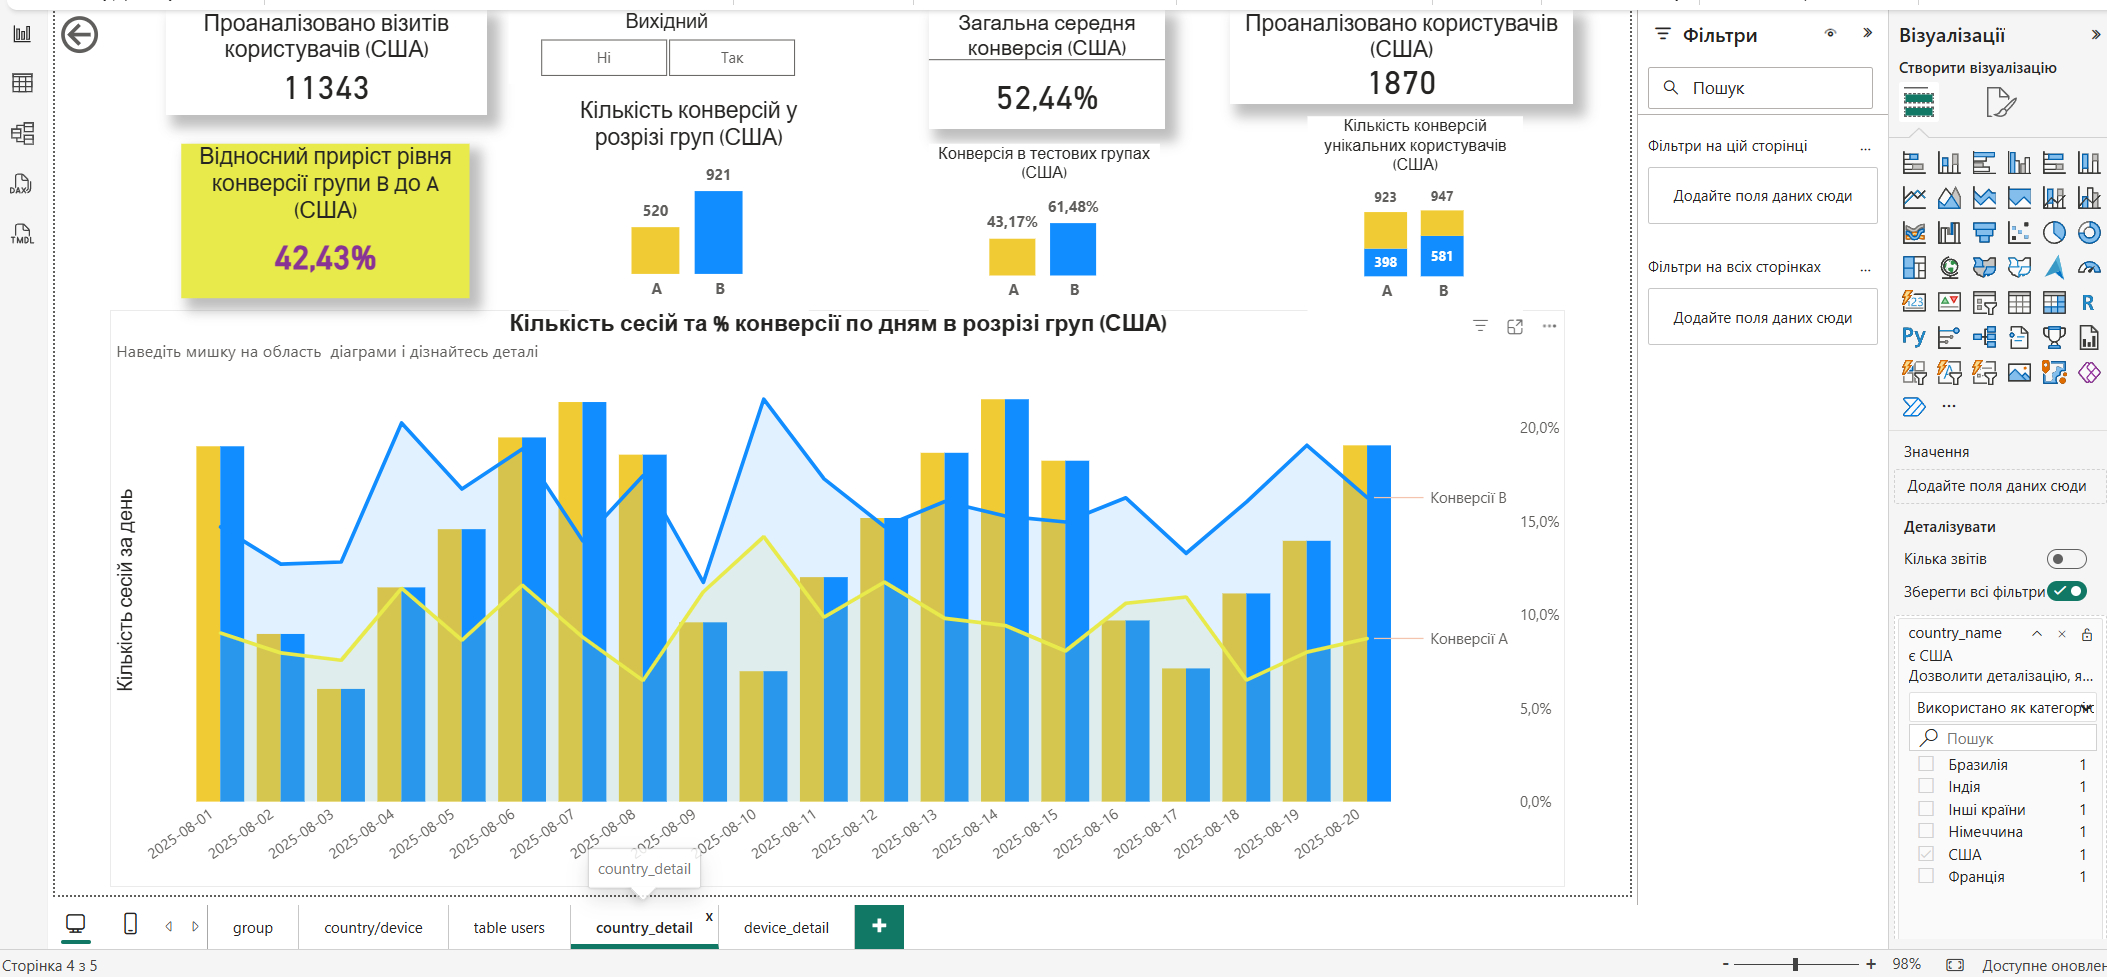

The page's visual inventory and layout, read from the dashboard file:
{"tool":"powerbi","page":{"name":"country_detail","canvas":[1280,720],"ordinal":3},"visuals":[{"type":"lineClusteredColumnComboChart","fields":{"Category":["Date.Date"],"Y":["daily.total_visits"],"Y2":["daily.cr_A","daily.cr_B"],"Series":["v_daily_agg.group_label"]},"box":[44.5,244.2,1183.8,469.3],"z":0},{"type":"card","fields":{"Values":["daily.total_visits"]},"box":[90.4,0,260.5,85.9],"z":1000},{"type":"card","fields":{"Values":["daily.cr_lift"]},"box":[102.8,109,234.8,125.8],"z":2000},{"type":"slicer","title":"Вихідний","fields":{"Values":["Date.IsWorkday"]},"box":[368.6,0,256.9,60.2],"z":3000},{"type":"columnChart","fields":{"Y":["daily.converted_visits"],"Category":["group.group_label"]},"box":[418.2,70.9,194.9,173.6],"z":4000},{"type":"card","fields":{"Values":["daily.cr"]},"box":[710.5,0,192.2,96.6],"z":5000},{"type":"clusteredColumnChart","fields":{"Y":["daily.cr"],"Category":["group.group_label"]},"box":[710.5,109,187.8,137.3],"z":6000},{"type":"card","fields":{"Values":["daily.total_users"]},"box":[955,0,279.1,77.1],"z":7000},{"type":"columnChart","fields":{"Y":["daily.converted_users","daily.not_converted_users"],"Category":["group.group_label"]},"box":[1018.8,85.9,175.4,160.4],"z":8000},{"type":"actionButton","box":[0,0,100,40],"z":9000}]}

Visuals, with their boxes on the page's 1280x720 design canvas (x1, y1, x2, y2). These are canvas units, not pixel positions in the 2107x977 screenshot, which may show the page scaled, cropped or inside an application window:
lineClusteredColumnComboChart - Date.Date x daily.total_visits: Rect(44, 244, 1228, 714)
card - daily.total_visits: Rect(90, 0, 351, 86)
card - daily.cr_lift: Rect(103, 109, 338, 235)
"Вихідний" slicer: Rect(369, 0, 626, 60)
columnChart - daily.converted_visits x group.group_label: Rect(418, 71, 613, 244)
card - daily.cr: Rect(710, 0, 903, 97)
clusteredColumnChart - daily.cr x group.group_label: Rect(710, 109, 898, 246)
card - daily.total_users: Rect(955, 0, 1234, 77)
columnChart - daily.converted_users x daily.not_converted_users: Rect(1019, 86, 1194, 246)
actionButton: Rect(0, 0, 100, 40)
